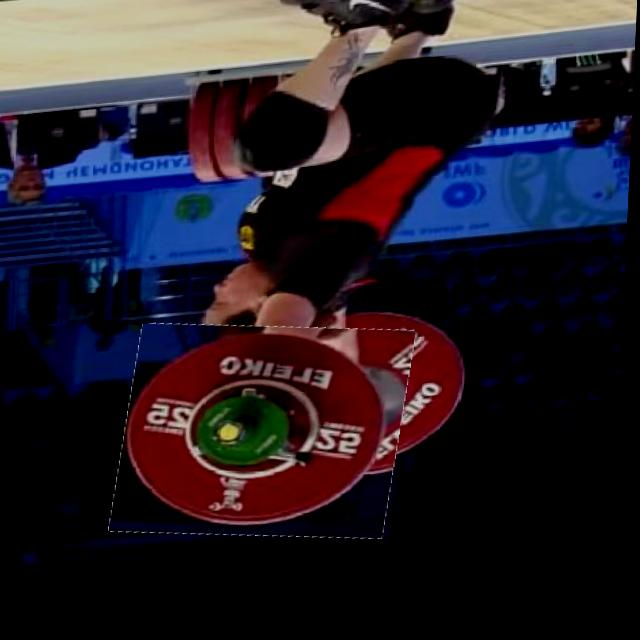barbell: (119, 316, 416, 561)
